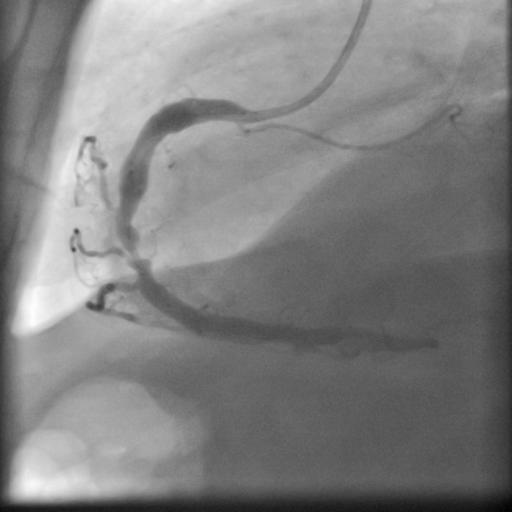Stenosis: (117, 223, 155, 274)
